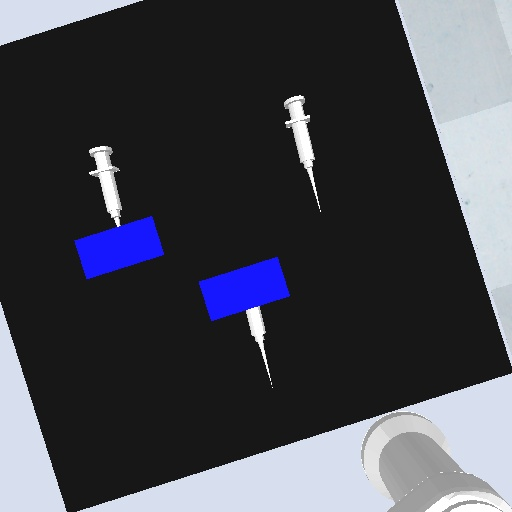jeringuilla: (279, 92, 326, 217), (85, 143, 126, 230), (243, 304, 281, 391)
